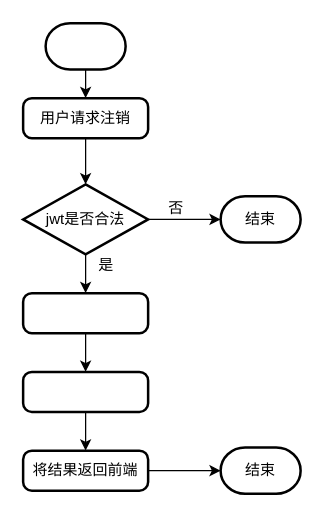
The diagram is 323 pixels wide and 516 high, and some of its shapes have lost their labels. Each missing label, with the box of its shape:
从Redis删除当前会话信息: (21, 370, 149, 412)
开始: (44, 21, 126, 70)
解析jwt信息: (21, 291, 149, 334)
